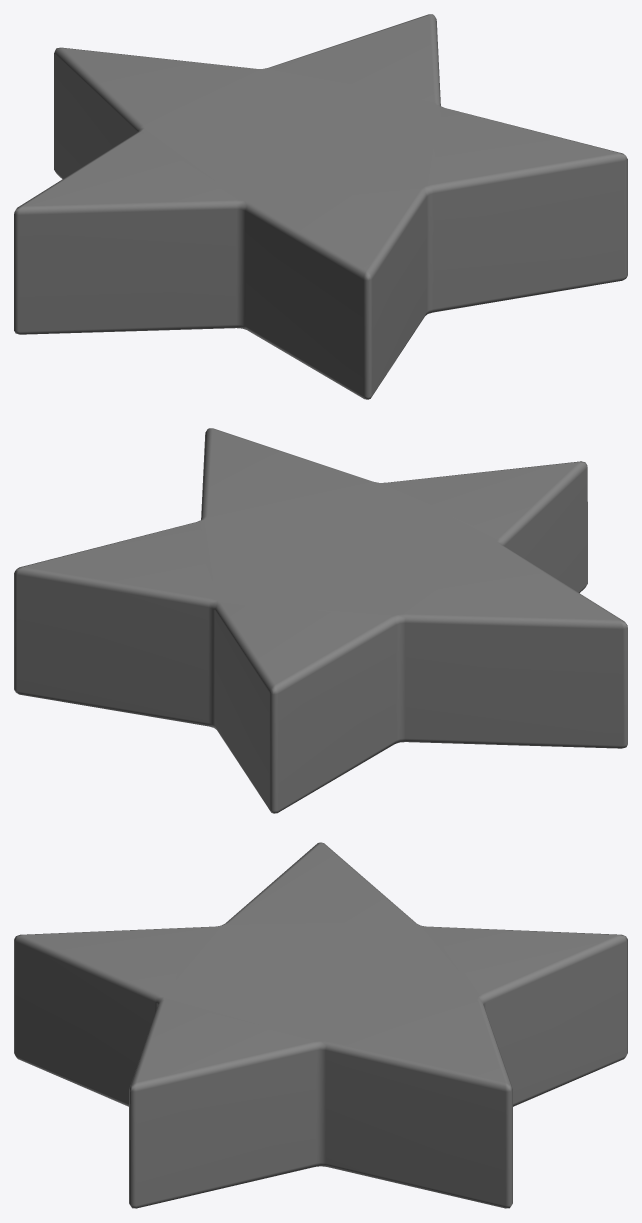
Rendered from Goal.fbx.
3 views of the same model, one above another, from view 1: azimuth 30°, elevation 25°; view 2: azimuth 150°, elevation 25°; view 3: azimuth 270°, elevation 25° (orthographic). The views are drawn at different scales.
Visible parts, largest first — view 1: Goal; view 2: Goal; view 3: Goal.
Boxes of the visible parts, box(x1,y1,x2,y2) form: Goal: box(14, 14, 627, 399); Goal: box(14, 428, 627, 813); Goal: box(14, 842, 627, 1208).
Bounding box in the file's own units: 91.2 × 21.56 × 95.83.
Materials: 1 (1 with a texture image).
